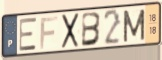2: (102, 8, 123, 48)
B: (81, 11, 103, 49)
E: (18, 16, 38, 53)
F: (39, 15, 60, 51)
M: (122, 8, 146, 44)
X: (61, 12, 81, 51)
